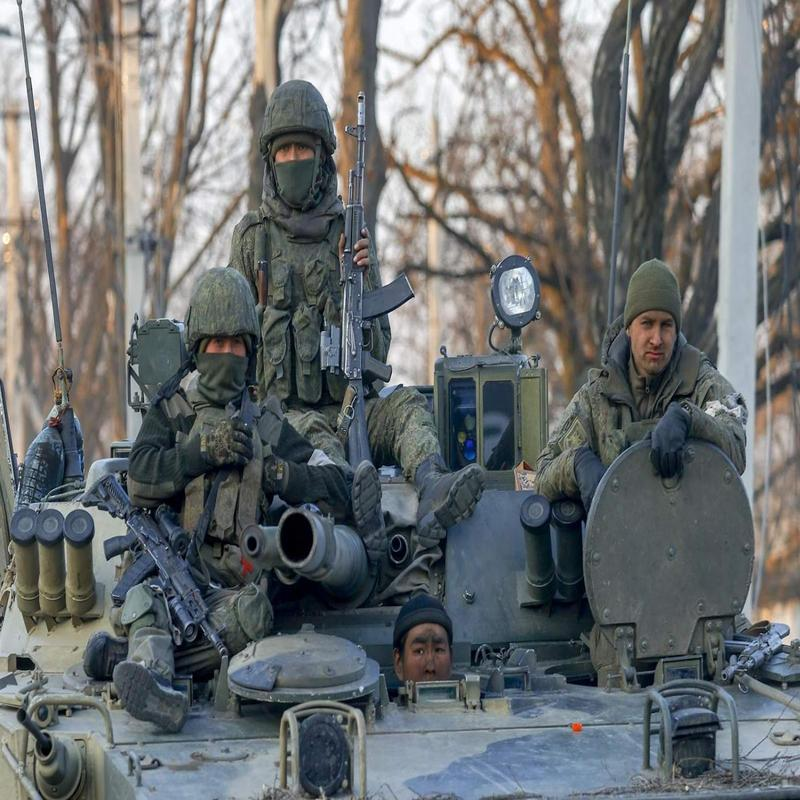GUN: (312, 75, 417, 484), (73, 461, 234, 672), (712, 614, 797, 684)
